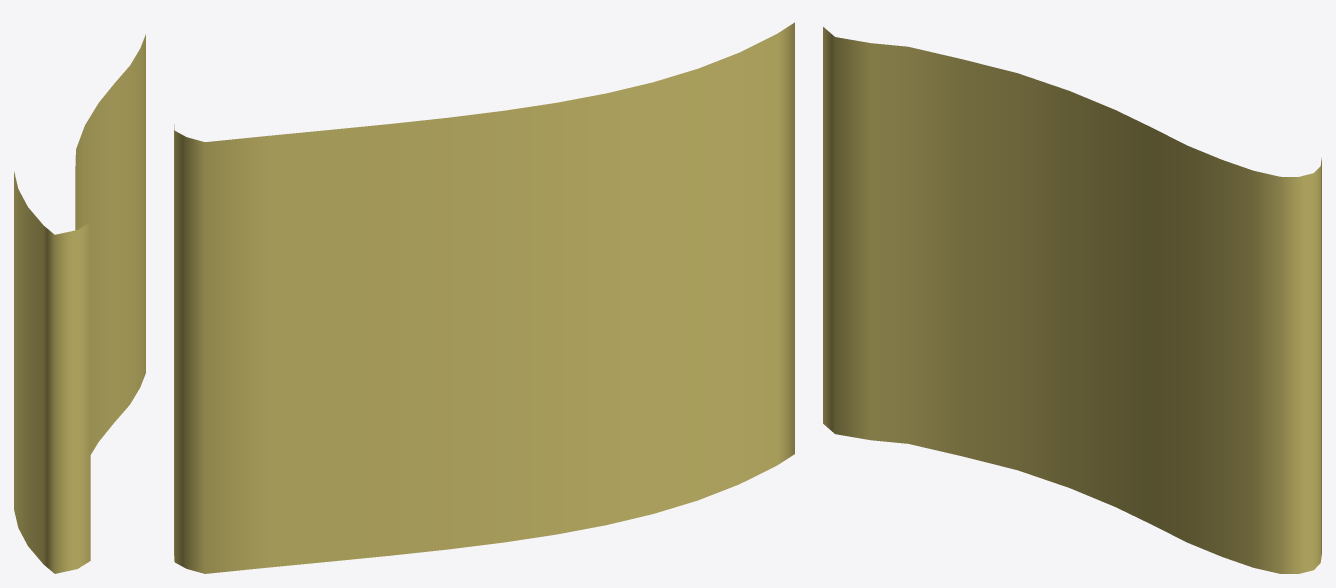
Rendered from posterior-spinocerebellar-tract.glb.
3 views of the same model, side by side, from view 1: azimuth 30°, elevation 25°; view 2: azimuth 150°, elevation 25°; view 3: azimuth 270°, elevation 25° (orthographic). The views are drawn at different scales.
Parts seen in each view (by area): view 1: Posterior spinocerebellar tract; view 2: Posterior spinocerebellar tract; view 3: Posterior spinocerebellar tract.
Part boxes in pixels (box(x1,y1,x2,y2)): Posterior spinocerebellar tract: box(14, 34, 145, 573); Posterior spinocerebellar tract: box(174, 22, 794, 573); Posterior spinocerebellar tract: box(823, 27, 1321, 573).
Bounding box in the file's own units: 0.0044 × 0.005 × 0.00569.
